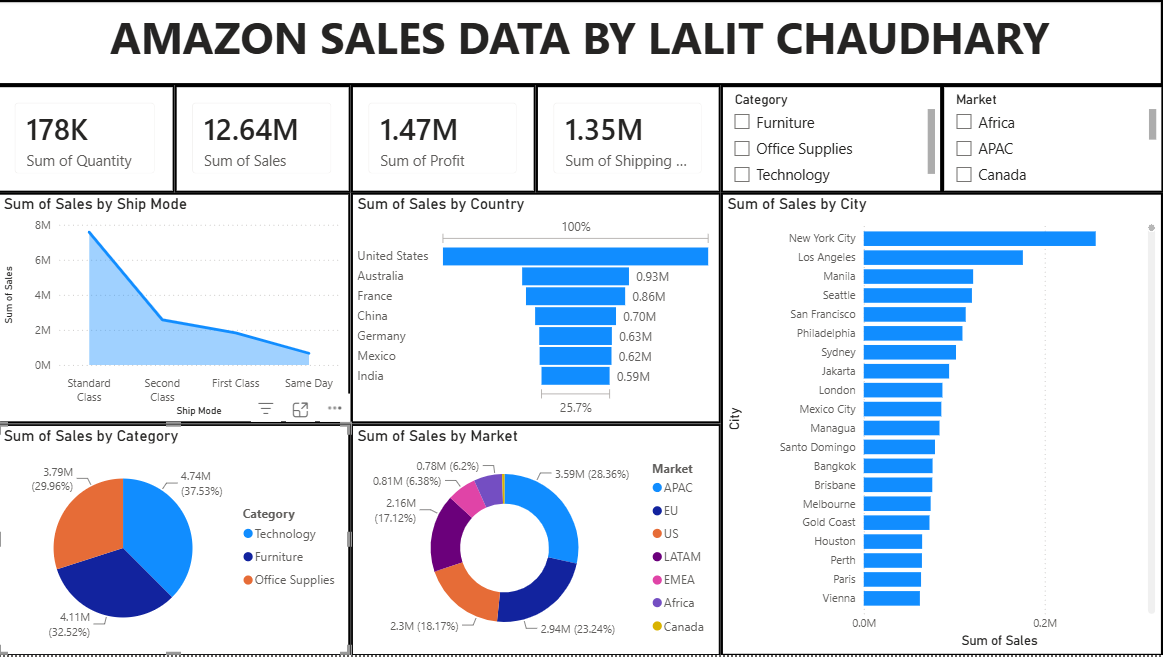

This screenshot's page, from the dashboard's own definition file:
{"tool":"powerbi","page":{"name":"Page 1","canvas":[1280,720],"ordinal":0},"visuals":[{"type":"pieChart","fields":{"Category":["Orders.Category"],"Y":["Sum(Orders.Sales)"]},"box":[0,465.2,388.3,255.2],"z":0},{"type":"donutChart","fields":{"Category":["Orders.Market"],"Y":["Sum(Orders.Sales)"]},"box":[388.3,465.2,406.2,255.2],"z":1000},{"type":"stackedAreaChart","fields":{"Category":["Orders.Ship Mode"],"Y":["Sum(Orders.Sales)"]},"box":[0,211.3,388.3,253.9],"z":2000},{"type":"funnel","fields":{"Category":["Orders.Country"],"Y":["Sum(Orders.Sales)"]},"box":[388.3,211.3,406.2,253.9],"z":3001},{"type":"clusteredBarChart","fields":{"Category":["Orders.City"],"Y":["Sum(Orders.Sales)"]},"box":[794.5,211.3,485.8,509.1],"z":3002},{"type":"textbox","box":[0,0,1280.3,93.3],"z":3003},{"type":"cardVisual","fields":{"Data":["Sum(Orders.Quantity)"]},"box":[0,93.3,194.9,118],"z":3004},{"type":"cardVisual","fields":{"Data":["Sum(Orders.Sales)"]},"box":[194.9,93.3,193.5,118],"z":3005},{"type":"cardVisual","fields":{"Data":["Sum(Orders.Profit)"]},"box":[388.3,93.3,203.1,118],"z":3006},{"type":"cardVisual","fields":{"Data":["Sum(Orders.Shipping Cost)"]},"box":[591.4,93.3,203.1,118],"z":3007},{"type":"slicer","fields":{"Values":["Orders.Category"]},"box":[794.5,93.3,242.9,118],"z":3008},{"type":"slicer","fields":{"Values":["Orders.Market"]},"box":[1037.4,93.3,242.9,118],"z":3009}]}

Visuals, with their boxes in screenshot pixels (x1, y1, x2, y2), scaled from the page's 1280x720 canvas onto the 1163x657 screenshot:
pieChart - Orders.Category x Sum(Orders.Sales): {"x1": 0, "y1": 424, "x2": 353, "y2": 656}
donutChart - Orders.Market x Sum(Orders.Sales): {"x1": 353, "y1": 424, "x2": 722, "y2": 656}
stackedAreaChart - Orders.Ship Mode x Sum(Orders.Sales): {"x1": 0, "y1": 193, "x2": 353, "y2": 424}
funnel - Orders.Country x Sum(Orders.Sales): {"x1": 353, "y1": 193, "x2": 722, "y2": 424}
clusteredBarChart - Orders.City x Sum(Orders.Sales): {"x1": 722, "y1": 193, "x2": 1162, "y2": 656}
textbox: {"x1": 0, "y1": 0, "x2": 1162, "y2": 85}
cardVisual - Sum(Orders.Quantity): {"x1": 0, "y1": 85, "x2": 177, "y2": 193}
cardVisual - Sum(Orders.Sales): {"x1": 177, "y1": 85, "x2": 353, "y2": 193}
cardVisual - Sum(Orders.Profit): {"x1": 353, "y1": 85, "x2": 537, "y2": 193}
cardVisual - Sum(Orders.Shipping Cost): {"x1": 537, "y1": 85, "x2": 722, "y2": 193}
slicer - Orders.Category: {"x1": 722, "y1": 85, "x2": 943, "y2": 193}
slicer - Orders.Market: {"x1": 943, "y1": 85, "x2": 1162, "y2": 193}
